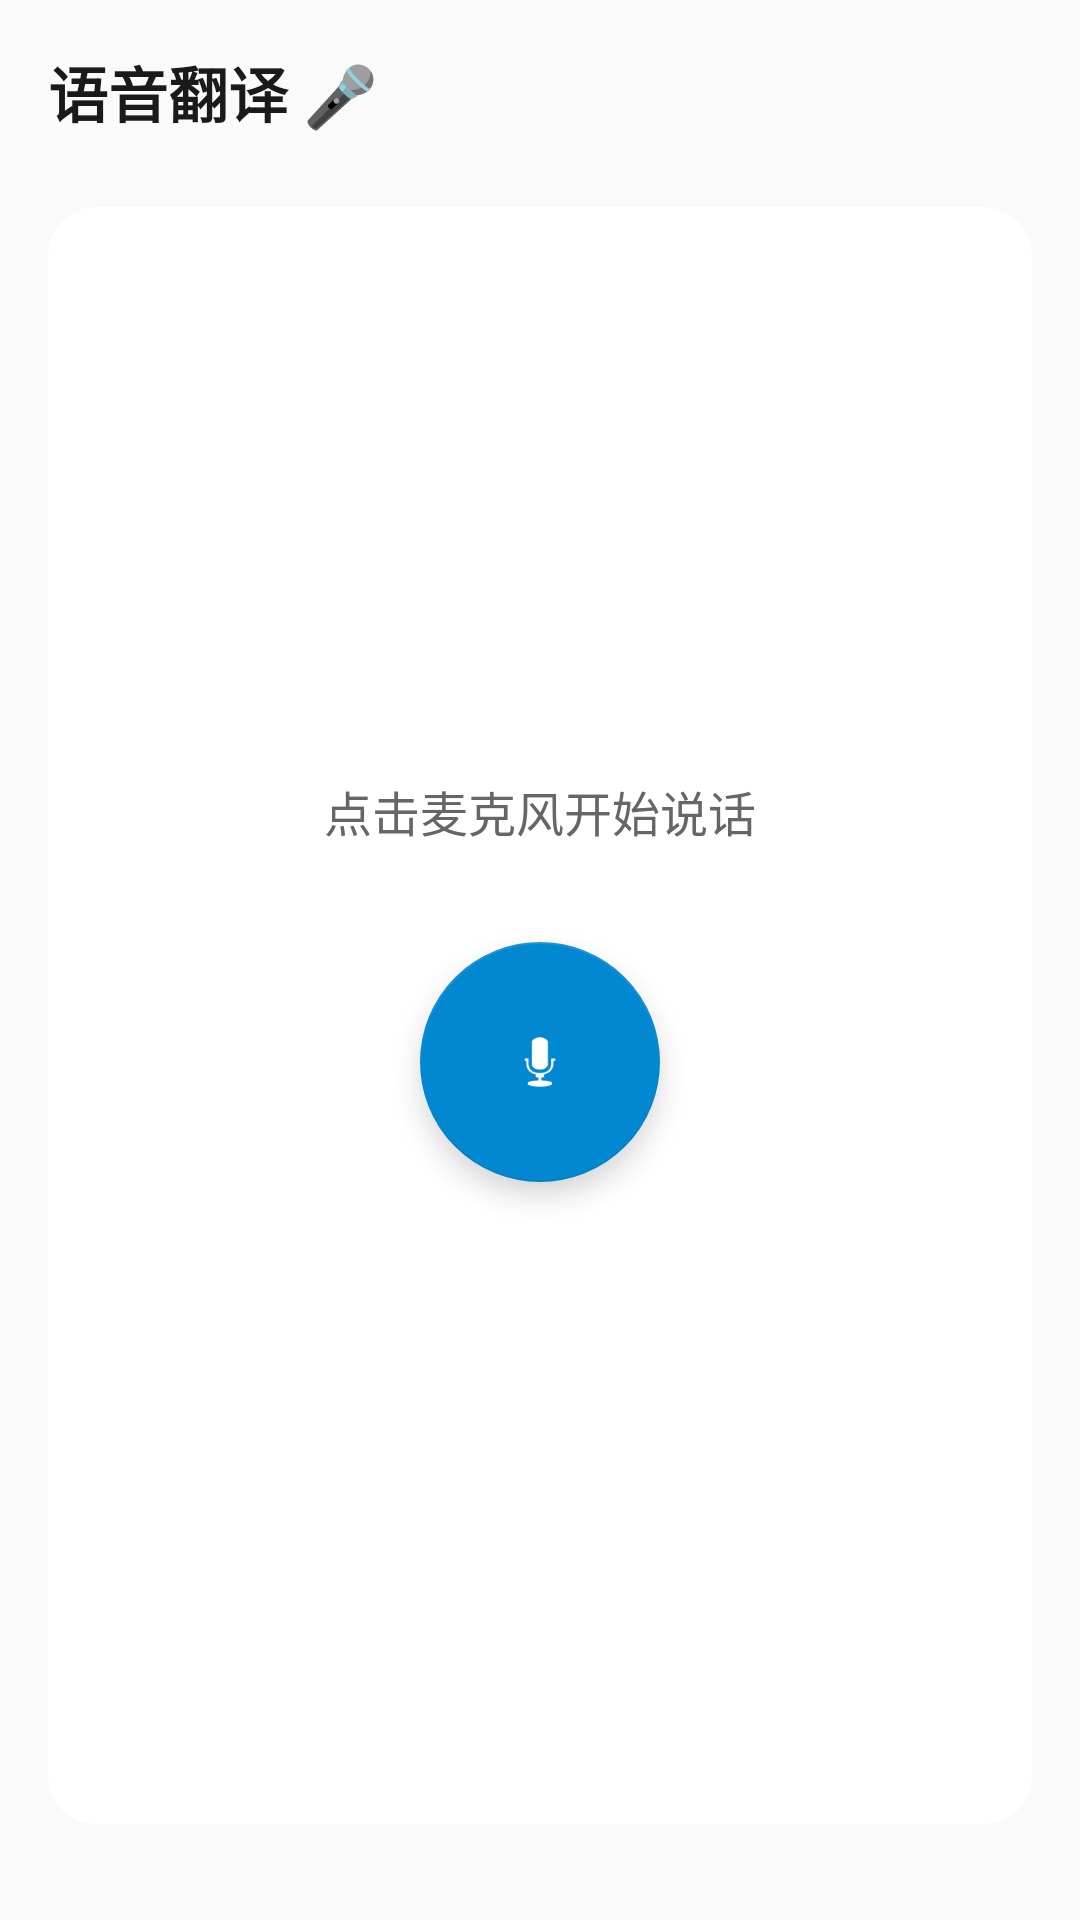

Screen size 1080×1920. Icon name, then its center in pixels as (x=x, y=y):
speak now: (x=540, y=1062)
